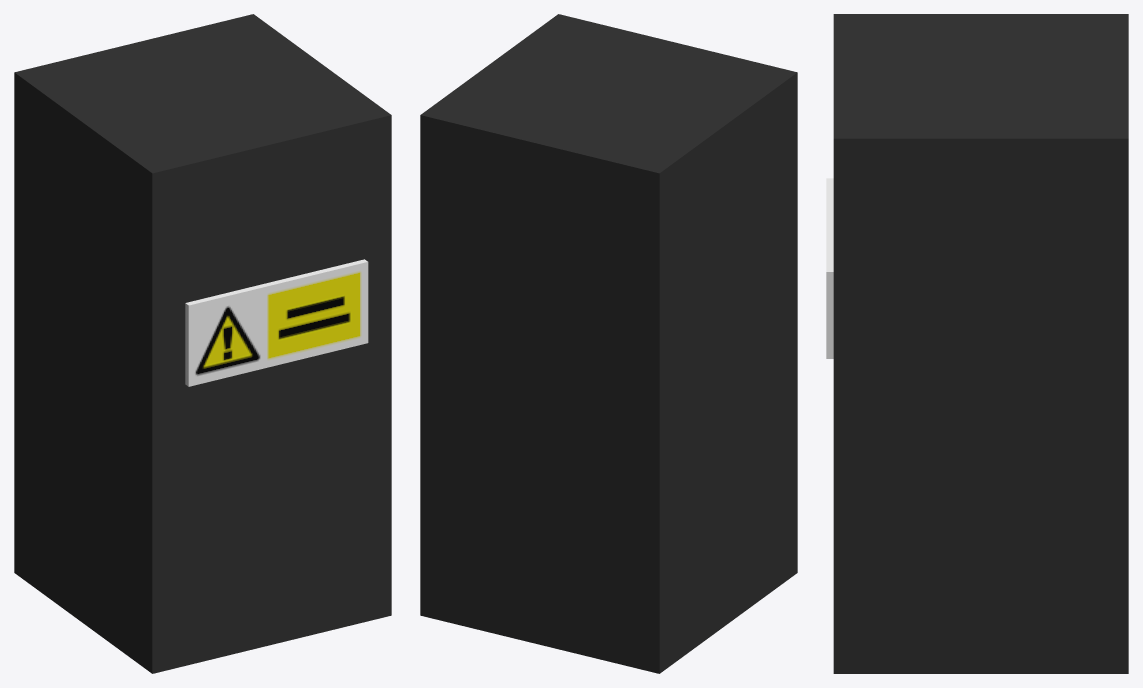
Rendered from wall_alt3.dae.
The picture shows the model from 3 angles, left to right: view 1: azimuth 30°, elevation 25°; view 2: azimuth 150°, elevation 25°; view 3: azimuth 270°, elevation 25°; orthographic projection. The views are drawn at different scales.
Visible parts, largest first — view 1: Box02, Box01, Regroup01; view 2: Box02; view 3: Box02, Regroup01.
Boxes of the visible parts, x1,y1,x2,y2 form: Box02: (14,14,391,673); Box01: (188,262,368,386); Regroup01: (185,259,367,386); Box02: (420,14,797,673); Box02: (833,14,1128,673); Regroup01: (826,178,833,358).
Bounding box in the file's own units: 4 × 8 × 4.1.
